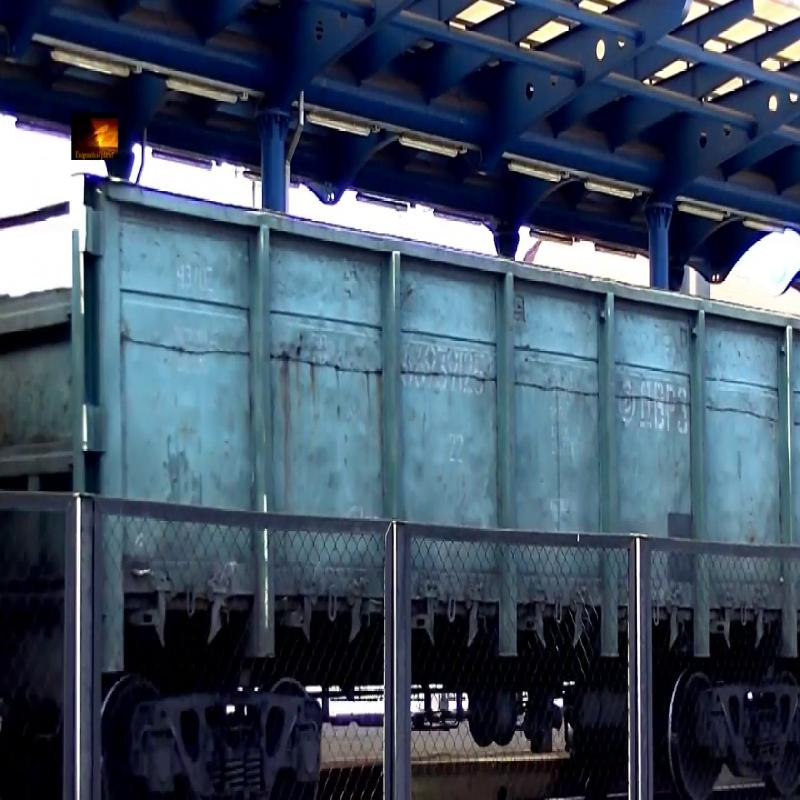train: (91, 49, 800, 773)
